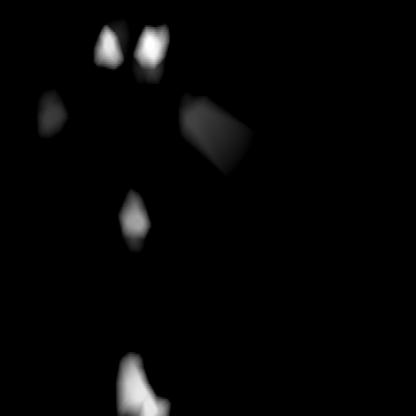fingers: (114, 346, 160, 414)
palm: (37, 22, 199, 130)
